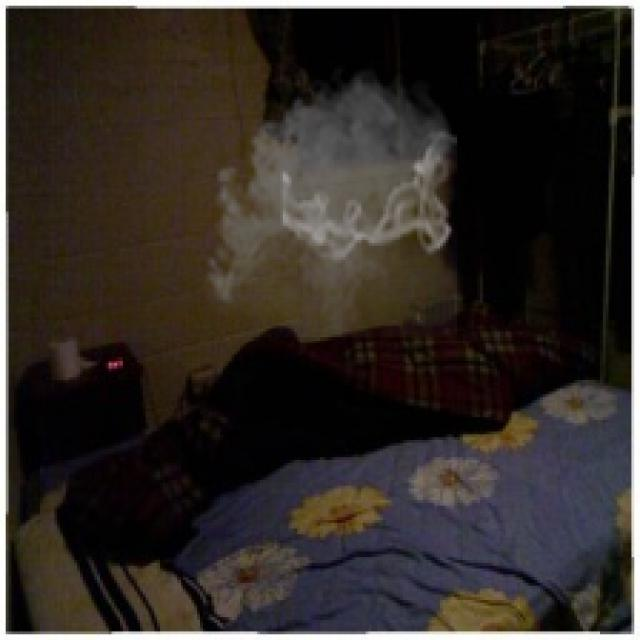smoke: (200, 57, 460, 337)
